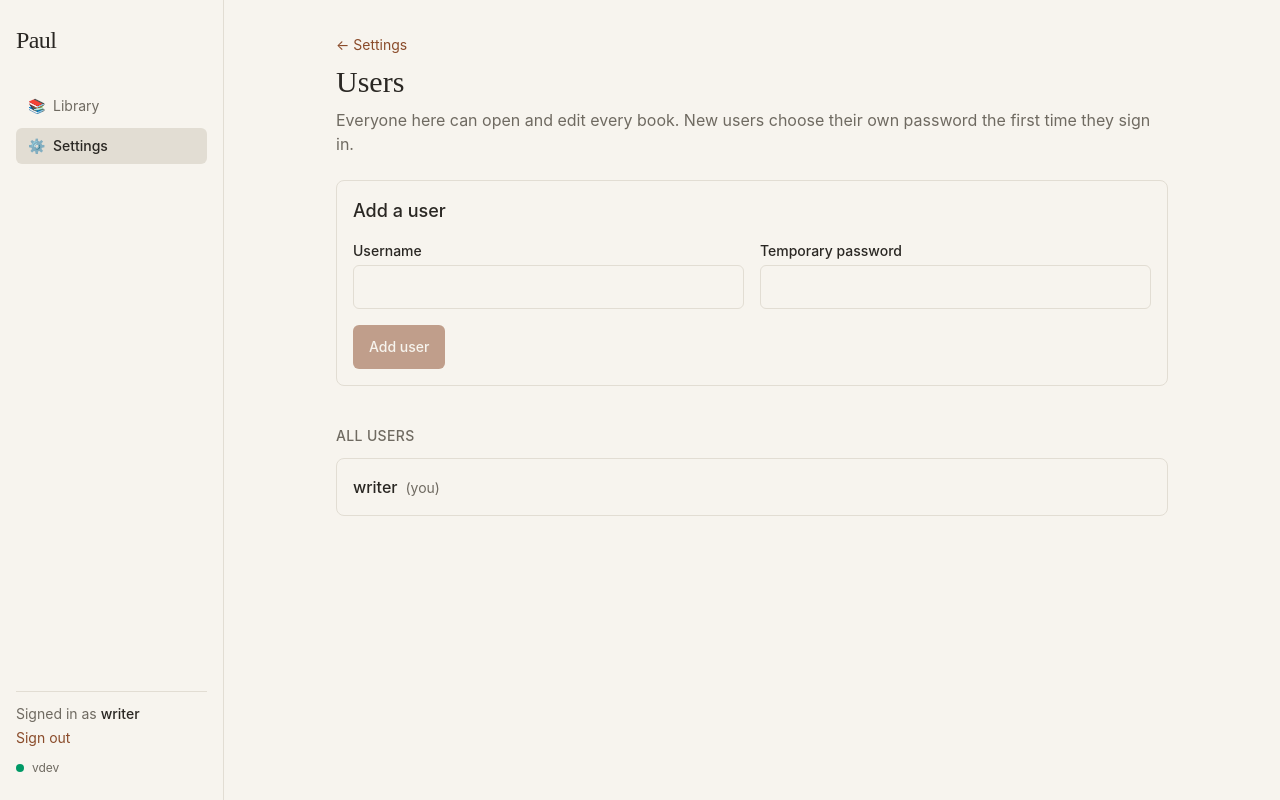
Test case: users page › adds a user and refreshes the list
The image size is (1280, 800).
Check: the button "Add user" is disabled, box [353,325,446,369]
Type "newbie" into the field labelled "Username" at (548, 287), box [353,265,744,309]
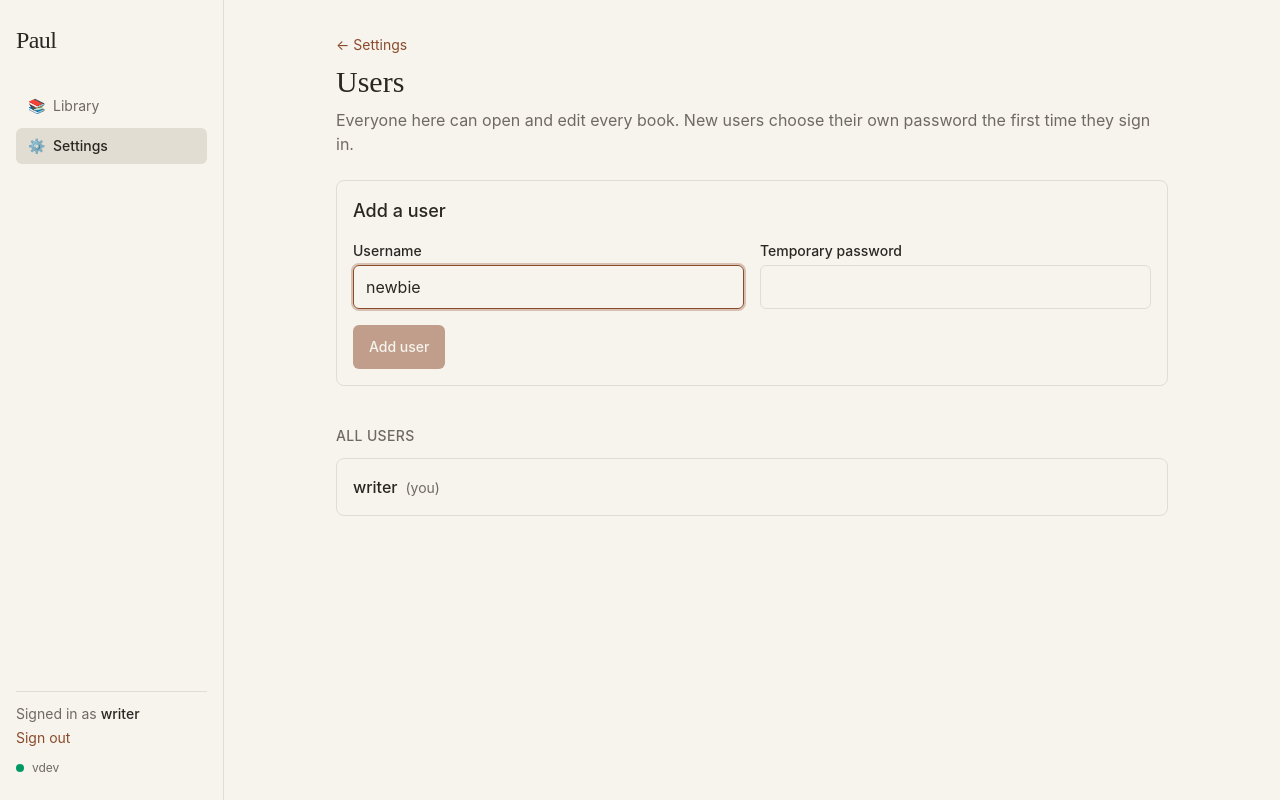
Type "temp-password" into the password field labelled "Temporary password" at (956, 287), box [760,265,1151,309]
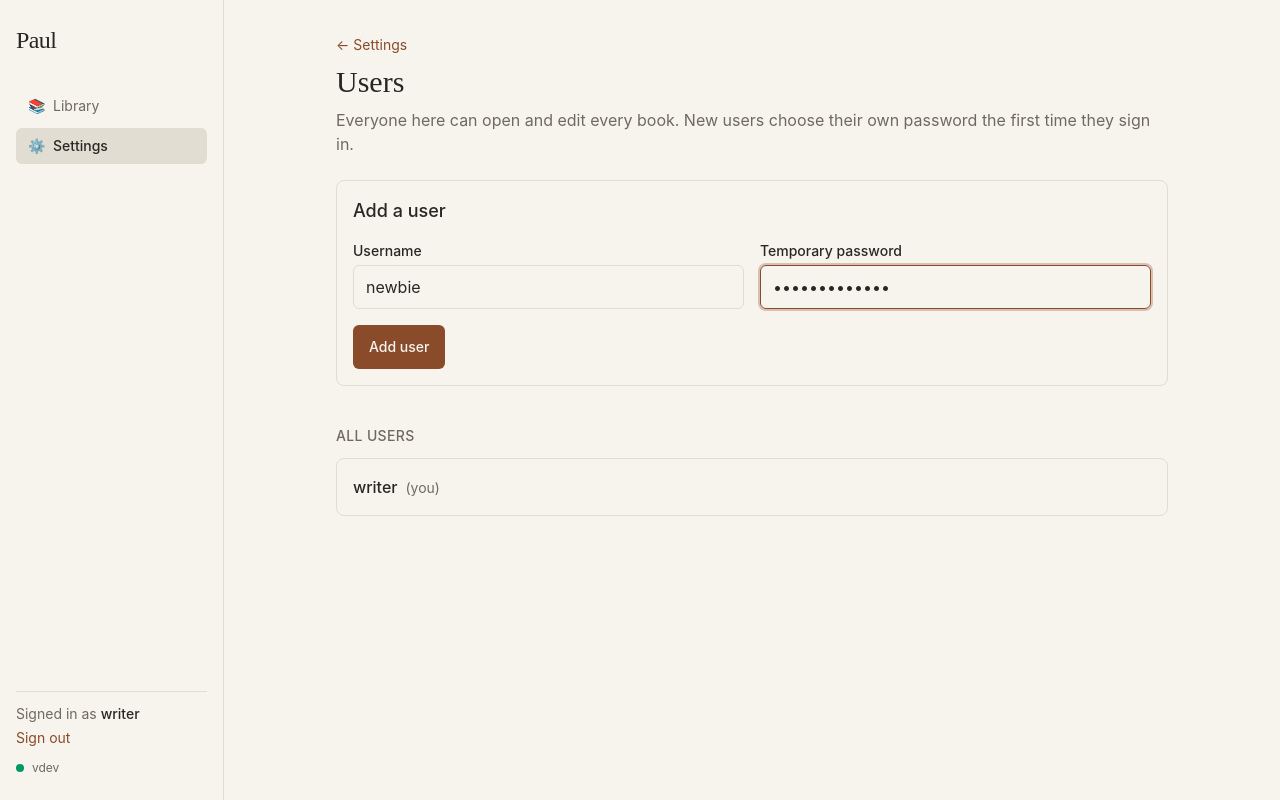
Click the button "Add user" at (399, 347), box [353,325,446,369]
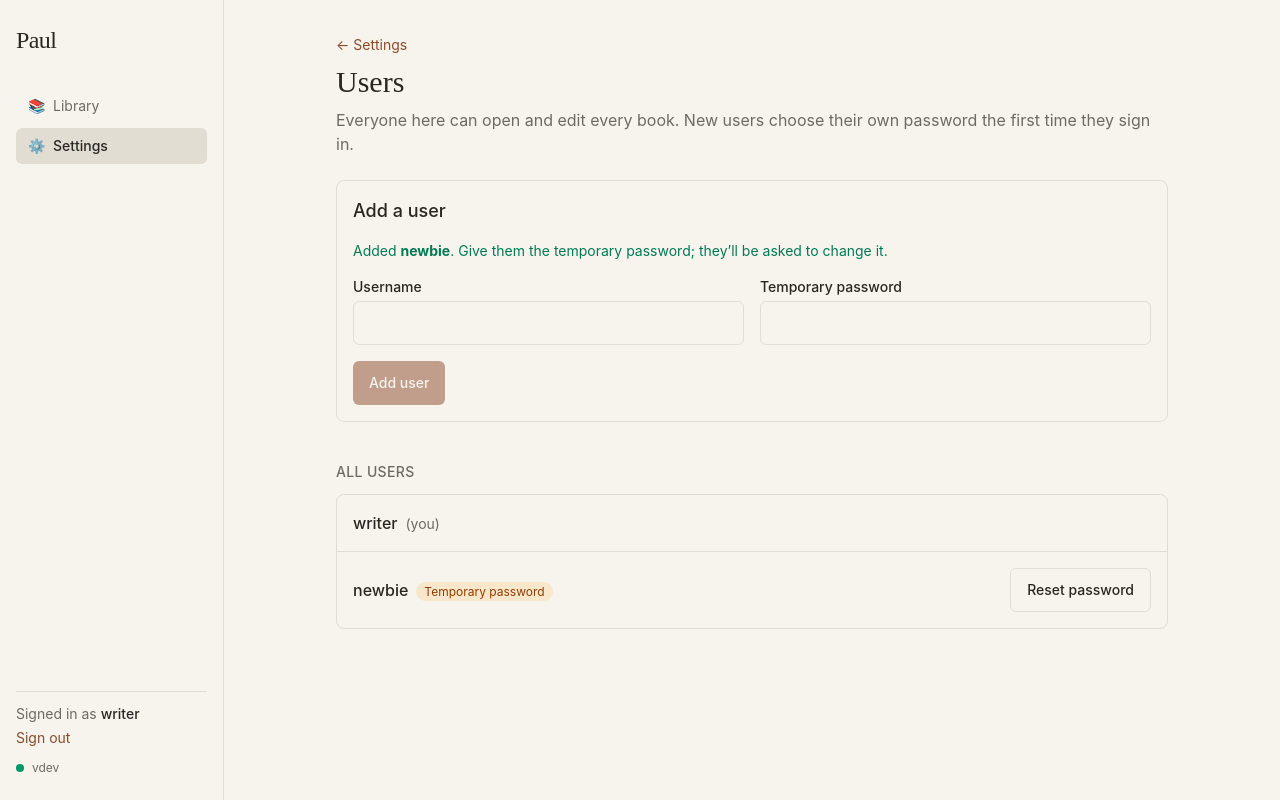
Check: the message "Added newbie. Give them the temporary password; they’ll be asked to change it." is shown, box [353,242,888,259]
Check: the text "newbie" below "(you)" is shown, box [353,580,408,600]
Check: the field labelled "Username" is empty, box [353,301,744,345]
